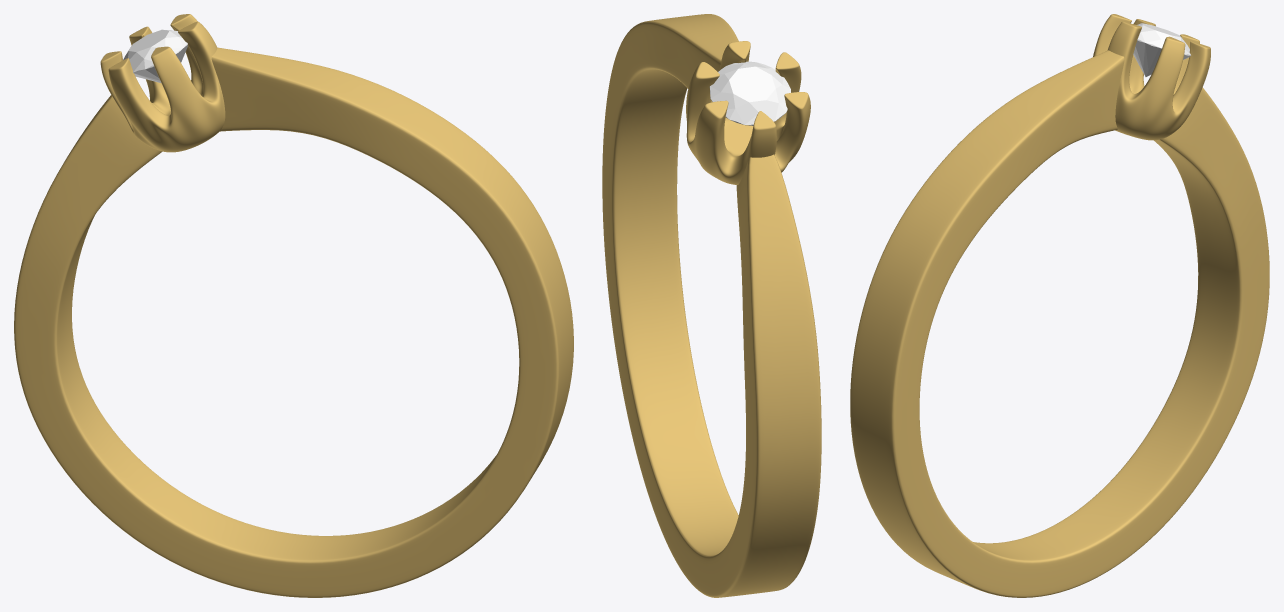
The model's file is ring-v8.glb.
3 views of the same model, side by side, from view 1: azimuth 30°, elevation 25°; view 2: azimuth 150°, elevation 25°; view 3: azimuth 270°, elevation 25° (orthographic). The views are drawn at different scales.
Visible parts, largest first — view 1: ring_body, ring_crown, diamond; view 2: ring_body, ring_crown, diamond; view 3: ring_body, ring_crown, diamond.
Boxes of the visible parts, bbox=[...] form: ring_body: bbox=[14, 47, 573, 597]; ring_crown: bbox=[100, 14, 225, 152]; diamond: bbox=[123, 29, 187, 83]; ring_body: bbox=[602, 14, 821, 597]; ring_crown: bbox=[686, 41, 810, 184]; diamond: bbox=[709, 61, 790, 125]; ring_body: bbox=[850, 50, 1269, 597]; ring_crown: bbox=[1093, 14, 1210, 140]; diamond: bbox=[1133, 23, 1190, 76].
Size of the model in its own units: 2.05 by 2.78 by 2.02.
